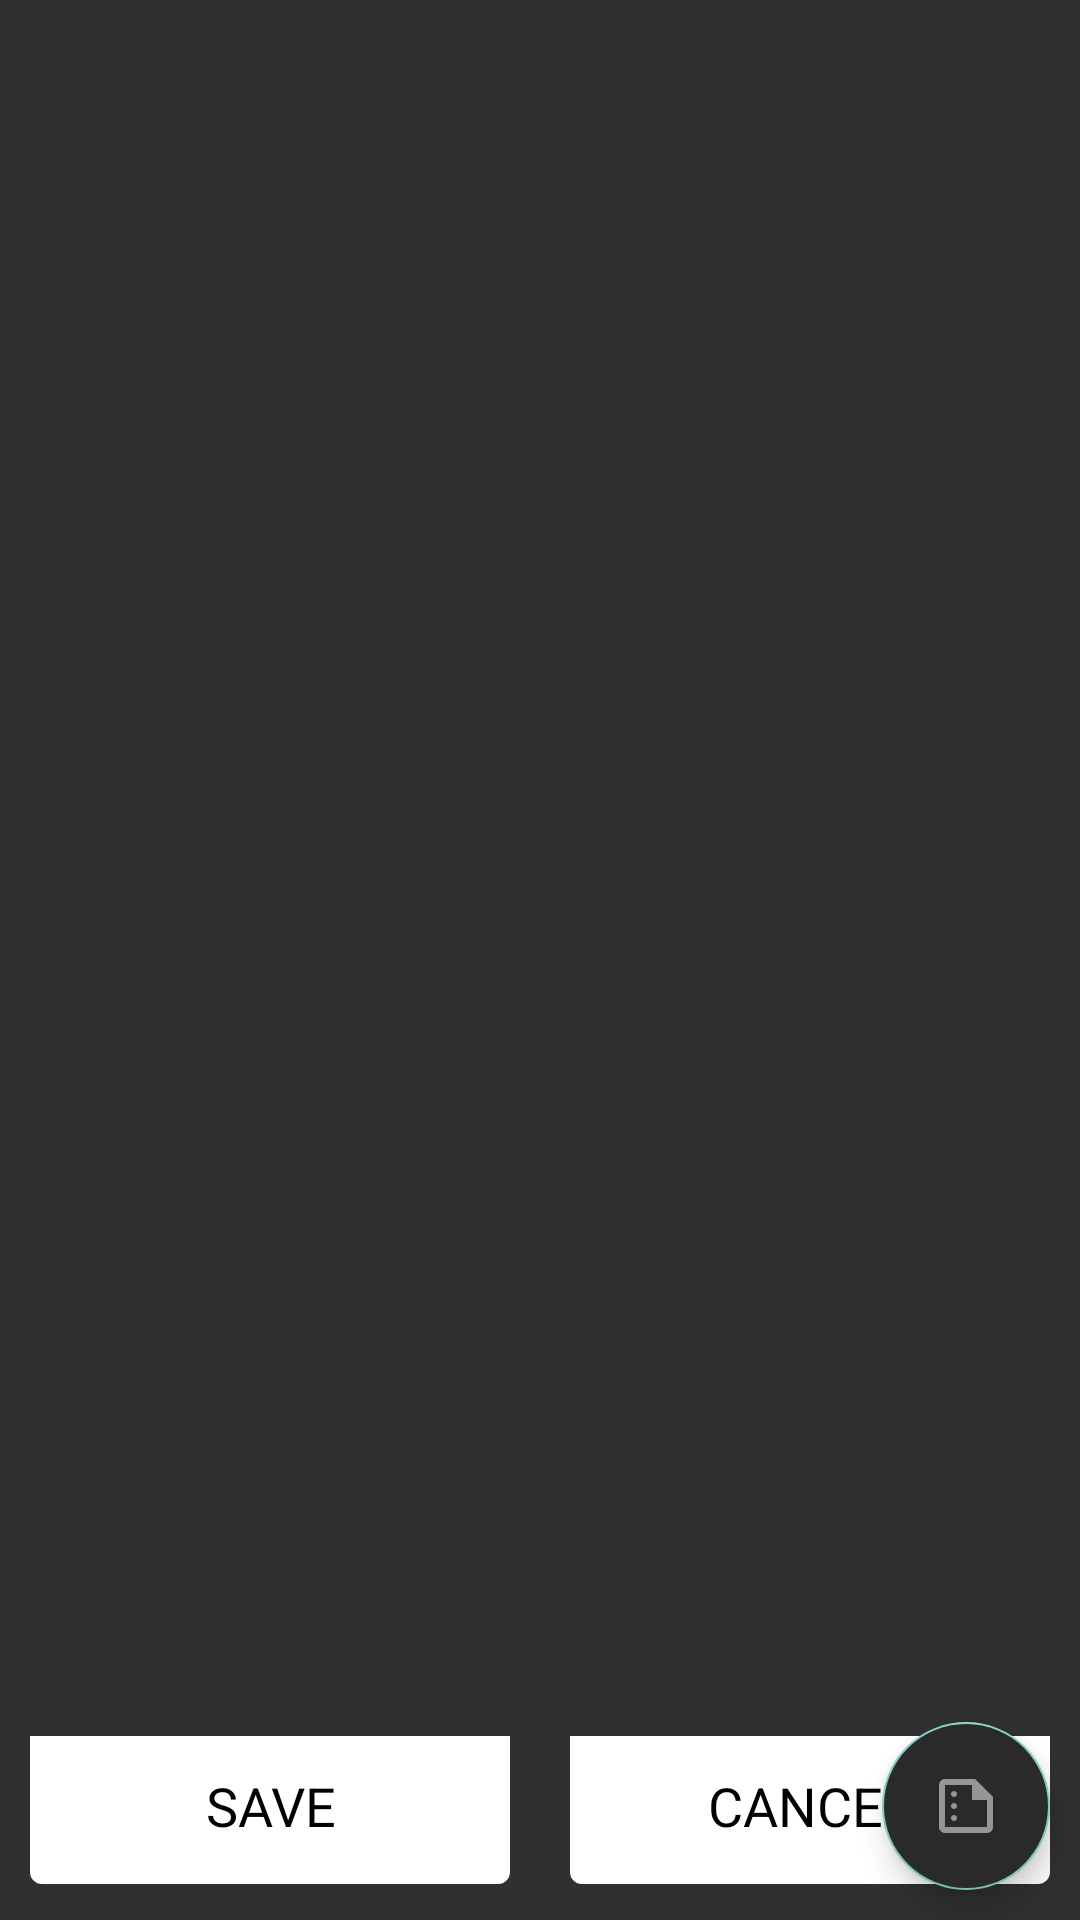

Named icons in this screenshot (1080px x 1920px) and their bounding boxes, (x1=x1, y1=y1, x2=x2, y2=y2):
summarize: (x1=882, y1=1722, x2=1050, y2=1890)
